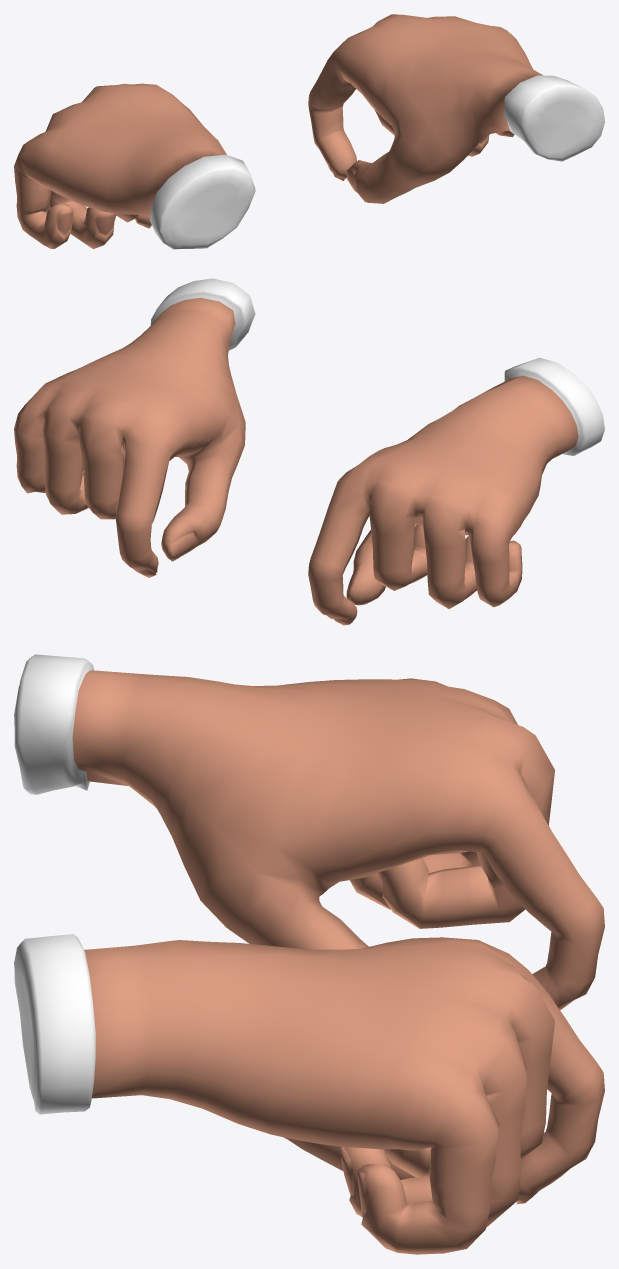
File: Hands.fbx
The picture shows the model from 3 angles, top to bottom: view 1: azimuth 30°, elevation 25°; view 2: azimuth 150°, elevation 25°; view 3: azimuth 270°, elevation 25°; orthographic projection. The views are drawn at different scales.
Parts seen in each view (by area): view 1: HandRight, HandLeft; view 2: HandLeft, HandRight; view 3: HandRight, HandLeft.
Part boxes in pixels (box(x1,y1,x2,y2)): HandRight: box(308, 14, 604, 203); HandLeft: box(14, 83, 255, 249); HandLeft: box(308, 357, 604, 625); HandRight: box(14, 278, 255, 577); HandRight: box(14, 934, 604, 1254); HandLeft: box(14, 654, 604, 1009).
Bounding box in the file's own units: 25.37 × 8.97 × 15.23.
